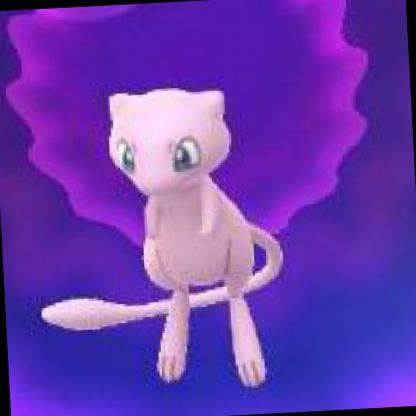Mew: (0, 5, 403, 415)
